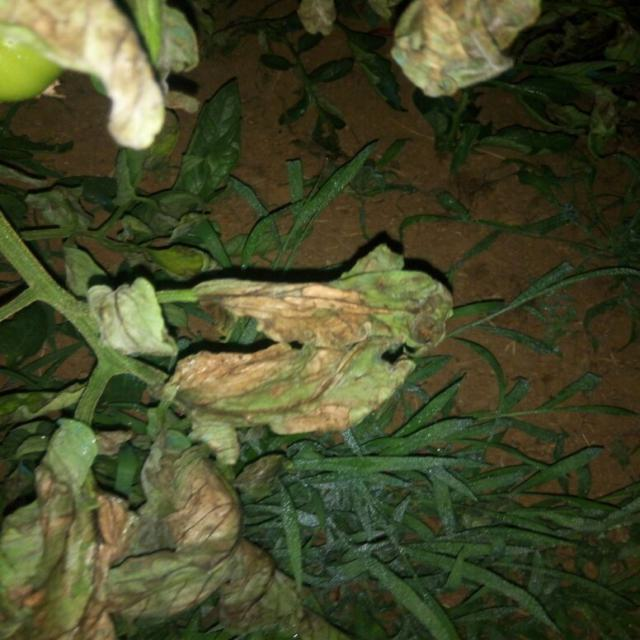Late_blight: (1, 439, 344, 640), (156, 254, 454, 436), (1, 1, 205, 148), (388, 1, 542, 96)
